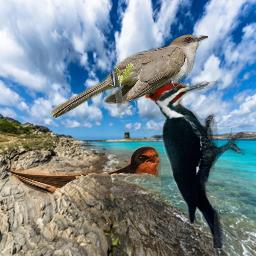Cuckoo: (49, 33, 208, 118)
Swallow: (10, 145, 161, 199)
Woodpecker: (145, 78, 245, 248)
